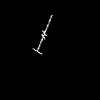treble_crochet: (34, 21, 49, 53)
